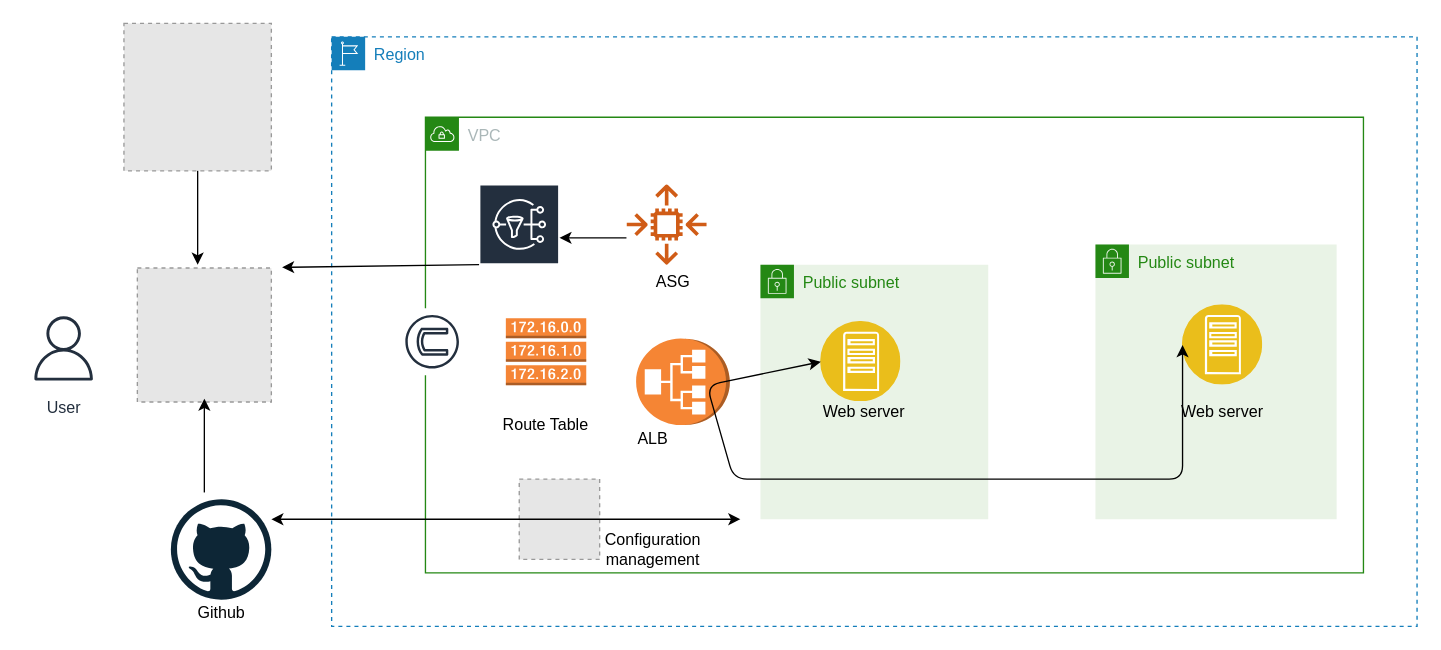
Some shapes in this 1441 by 650 pixel diagram are drawn without their labels. Grey dashed boxes stand in for pictures. Each missing label, with the centre of its shape:
Amazon SNS: point (518, 237)
Internet gateway: point (431, 341)
